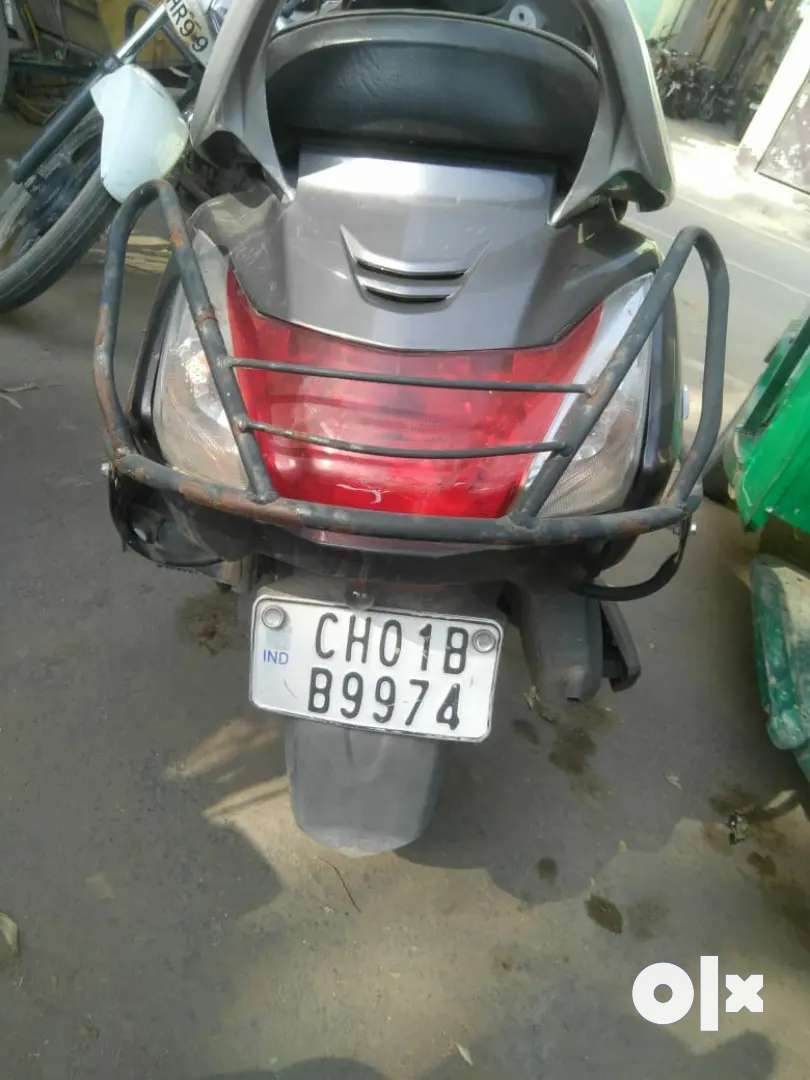doublelinenumberplate: (244, 595, 505, 745)
